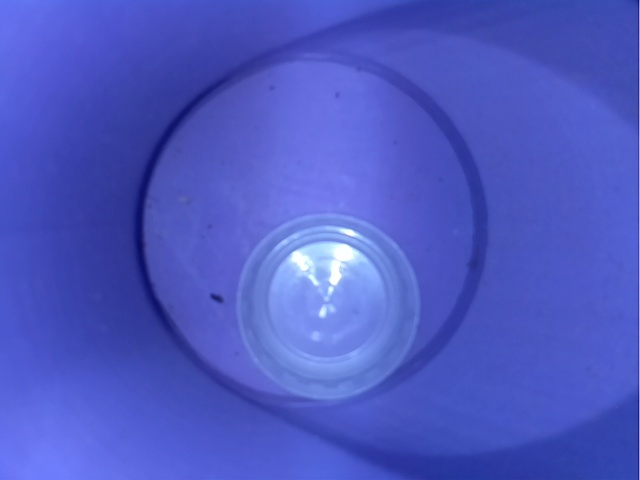bouchon: (223, 210, 438, 399)
